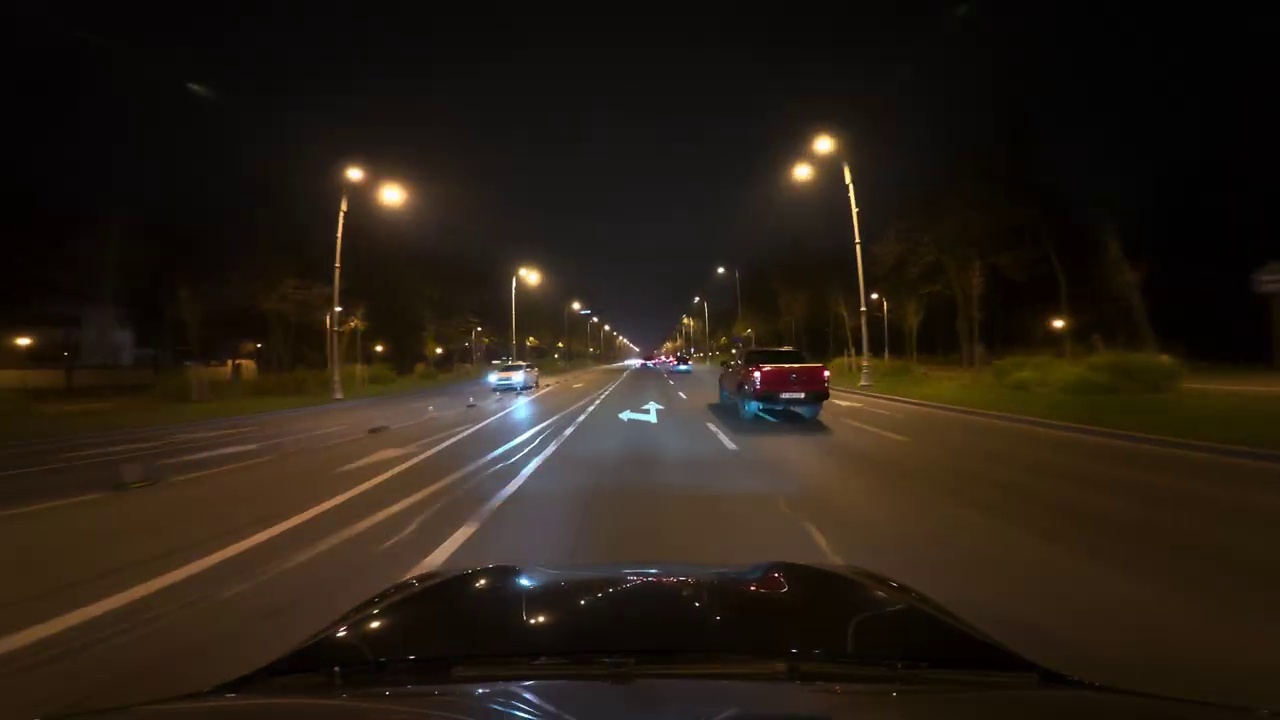acesa: (786, 143, 834, 188), (797, 135, 838, 183), (376, 180, 409, 211), (787, 159, 819, 187), (516, 264, 545, 291), (810, 132, 839, 156), (341, 163, 368, 185), (711, 264, 731, 283)
